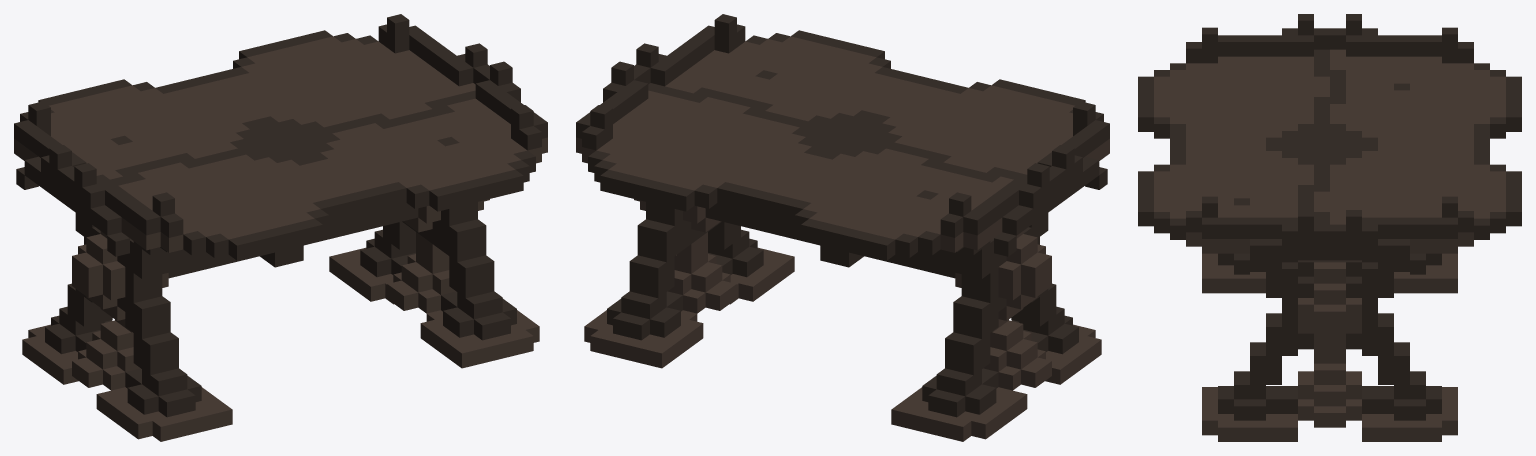
File: TableSmall.obj
3 renders of one model, left to right at view 1: azimuth 30°, elevation 25°; view 2: azimuth 150°, elevation 25°; view 3: azimuth 270°, elevation 25°, orthographic. The views are drawn at different scales.
Size of the model in its own units: 3 by 1.6 by 2.4.
1 material, 1 textured.
